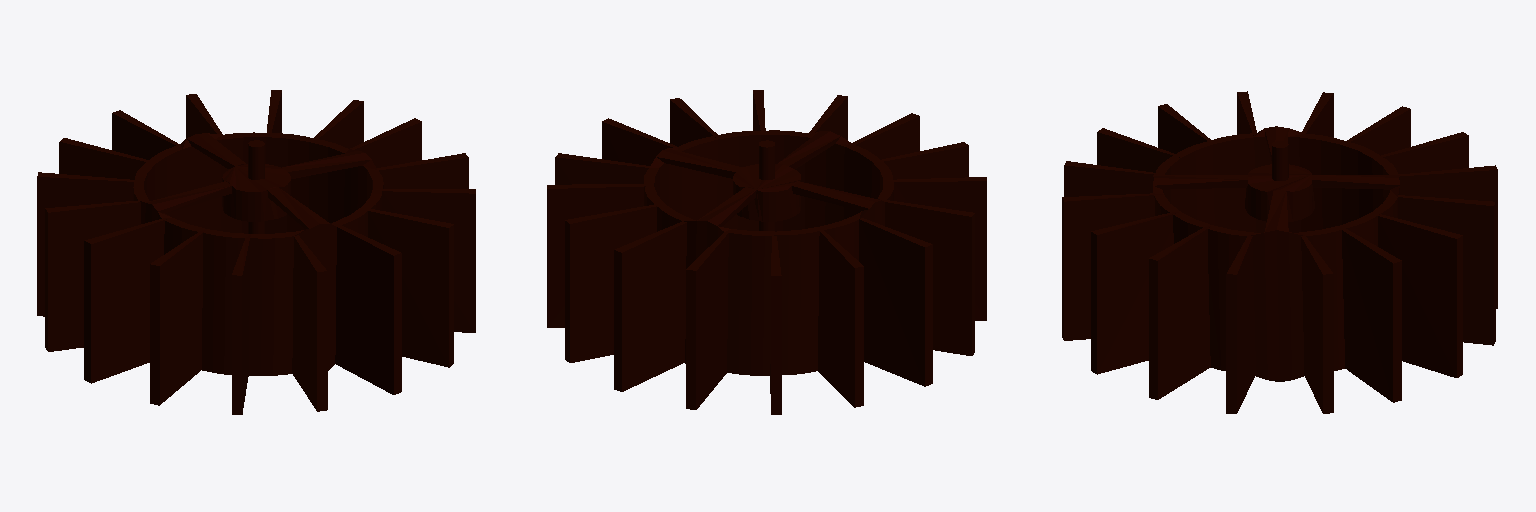
Rendered from moulin.obj.
3 renders of one model, left to right at view 1: azimuth 30°, elevation 25°; view 2: azimuth 150°, elevation 25°; view 3: azimuth 270°, elevation 25°, orthographic.
Visible parts, largest first — view 1: Circle; view 2: Circle; view 3: Circle.
Boxes of the visible parts, x1,y1,x2,y2 form: Circle: [37, 90, 475, 414]; Circle: [547, 90, 986, 414]; Circle: [1062, 91, 1497, 413].
Bounding box in the file's own units: 3.59 × 2.04 × 3.6.